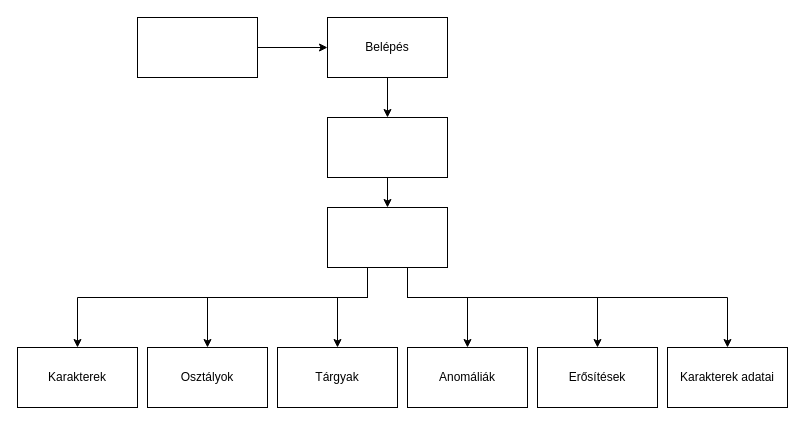
Some shapes in this 805 by 425 pixel diagram are drawn without their labels. The shapes that lost their labels are listed below. From the top down, each one's centre as x and y in pixels, then its label:
At (197,47): "Regisztráció".
At (387,147): "Főoldal".
At (387,237): "Sidebar(Navigációs oldalsáv)".
